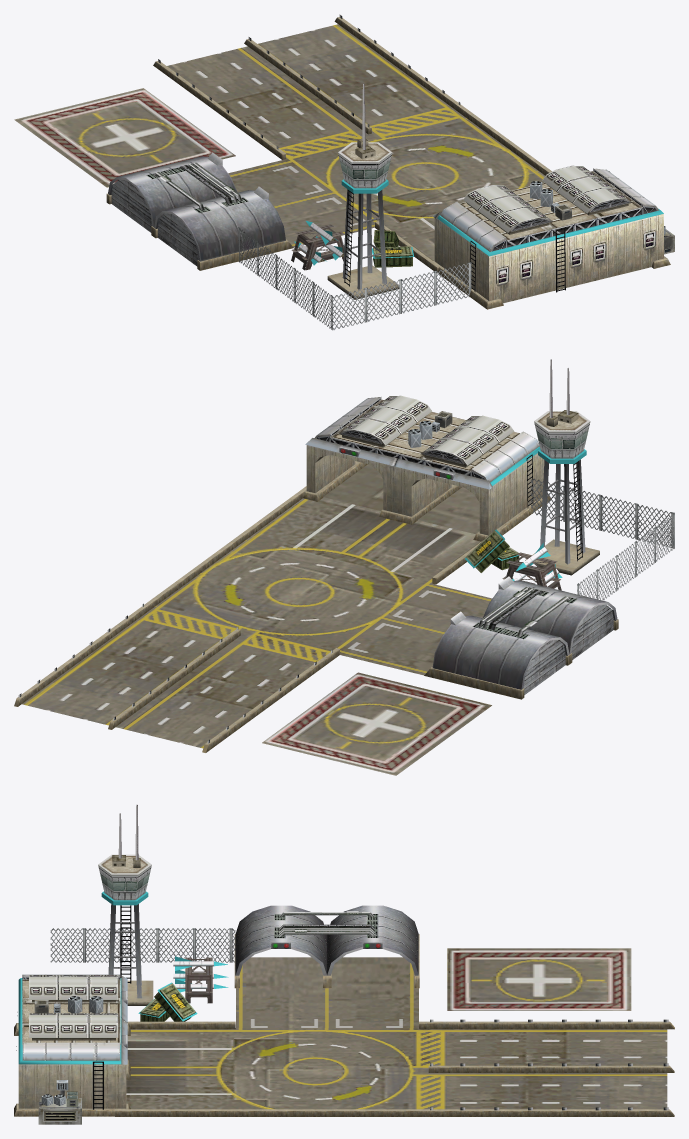
Rendered from airfield.glb.
3 renders of one model, top to bottom at view 1: azimuth 30°, elevation 25°; view 2: azimuth 150°, elevation 25°; view 3: azimuth 270°, elevation 25°, orthographic. The views are drawn at different scales.
Visible parts, largest first — view 1: TARMACK (×8), MESH07 (×3), SKYLIGHTS, HOUSECOLOR01, TOWER; view 2: TARMACK (×7), MESH07 (×3), PLANE01, SKYLIGHTS, TOWER, HOUSECOLOR01; view 3: TARMACK (×7), MESH07 (×3), SKYLIGHTS, HOUSECOLOR01, TOWER.
Part boxes in pixels (left/top/right/bottom): TARMACK (×8): left=14, top=17, right=674, bottom=309; MESH07 (×3): left=146, top=14, right=565, bottom=330; SKYLIGHTS: left=463, top=165, right=627, bottom=232; HOUSECOLOR01: left=294, top=179, right=663, bottom=265; TOWER: left=338, top=152, right=392, bottom=188; TARMACK (×7): left=14, top=359, right=618, bottom=775; MESH07 (×3): left=18, top=454, right=674, bottom=743; PLANE01: left=323, top=464, right=479, bottom=534; SKYLIGHTS: left=343, top=395, right=514, bottom=465; TOWER: left=534, top=421, right=590, bottom=458; HOUSECOLOR01: left=465, top=446, right=586, bottom=580; TARMACK (×7): left=14, top=804, right=674, bottom=1124; MESH07 (×3): left=16, top=905, right=668, bottom=1110; SKYLIGHTS: left=29, top=975, right=118, bottom=1037; HOUSECOLOR01: left=18, top=891, right=228, bottom=1064; TOWER: left=98, top=865, right=151, bottom=900.
Size of the model in its own units: 147 by 73.38 by 226.
20 materials, 19 textured.
